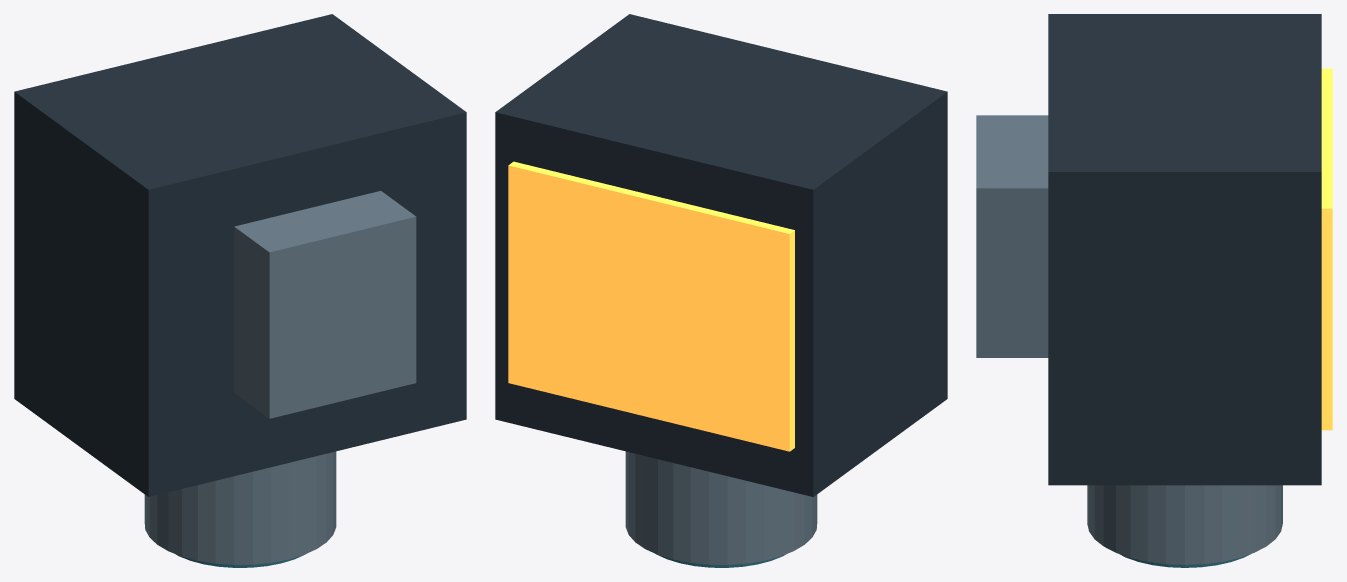
The model's file is camera_unit.glb.
The picture shows the model from 3 angles, left to right: view 1: azimuth 30°, elevation 25°; view 2: azimuth 150°, elevation 25°; view 3: azimuth 270°, elevation 25°; orthographic projection.
Parts seen in each view (by area): view 1: camera_housing, camera_mount, camera_lens_barrel; view 2: camera_housing, camera_accent, camera_lens_barrel; view 3: camera_housing, camera_mount, camera_lens_barrel, camera_accent.
Boxes of the visible parts, bbox=[...] form: camera_housing: bbox=[14, 14, 466, 496]; camera_mount: bbox=[234, 191, 416, 418]; camera_lens_barrel: bbox=[144, 451, 336, 564]; camera_housing: bbox=[495, 14, 947, 496]; camera_accent: bbox=[508, 161, 794, 451]; camera_lens_barrel: bbox=[625, 451, 817, 564]; camera_housing: bbox=[1048, 14, 1321, 485]; camera_mount: bbox=[976, 115, 1048, 357]; camera_lens_barrel: bbox=[1087, 485, 1282, 564]; camera_accent: bbox=[1321, 68, 1332, 430].
Size of the model in its own units: 0.26 by 0.337 by 0.2475.
